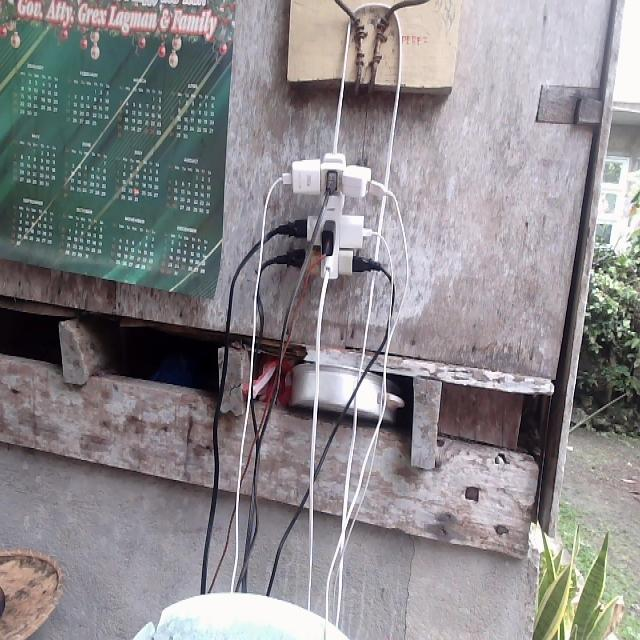-: (271, 149, 388, 279)
